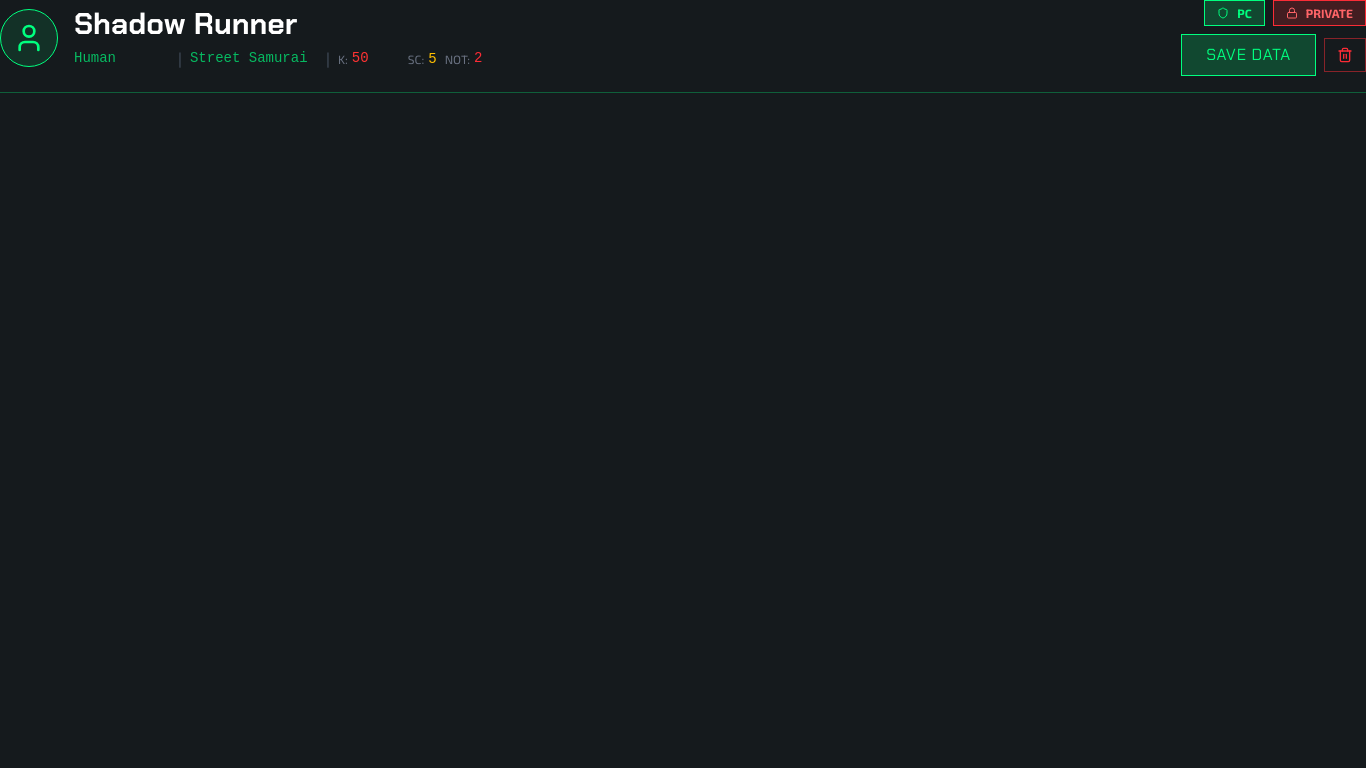
Test: CharacterSheetHeader Component › closes delete modal when cancel clicked
Step 1. Click the button titled "Delete Character" → {"x": 1345, "y": 55}, box [1324,38,1365,72]
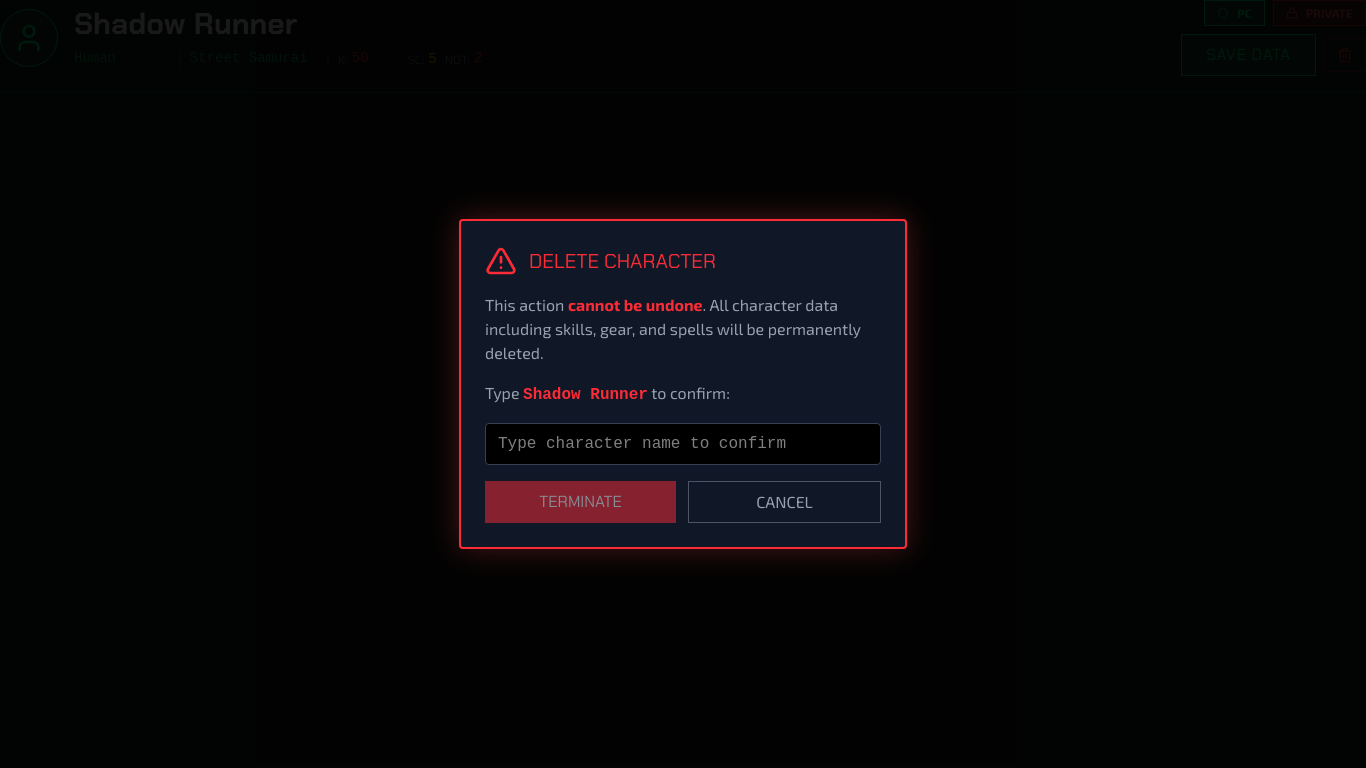
Expected: the heading "DELETE CHARACTER" is shown, [529,247,716,275]
Step 2. Click the button "CANCEL" → {"x": 784, "y": 502}, box [688,481,881,523]
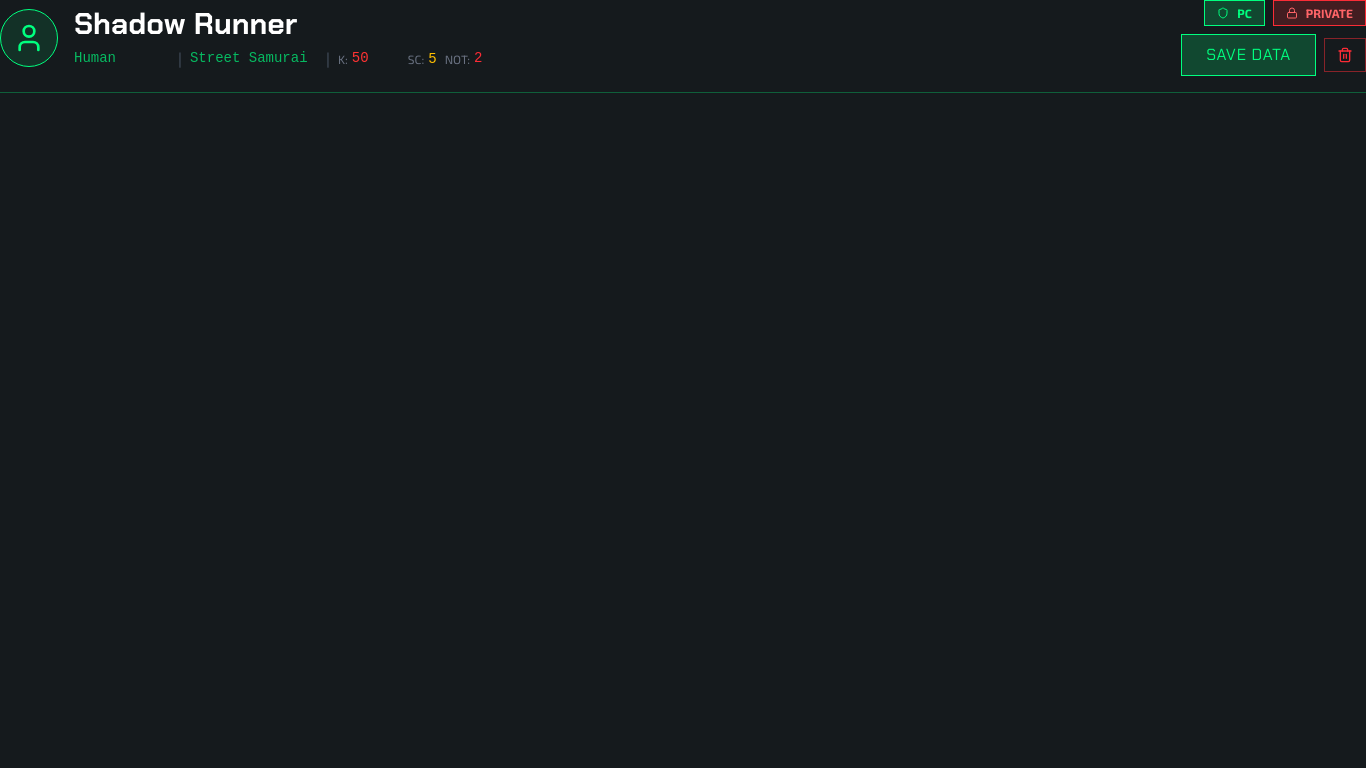
Expected: the heading "DELETE CHARACTER" is gone
